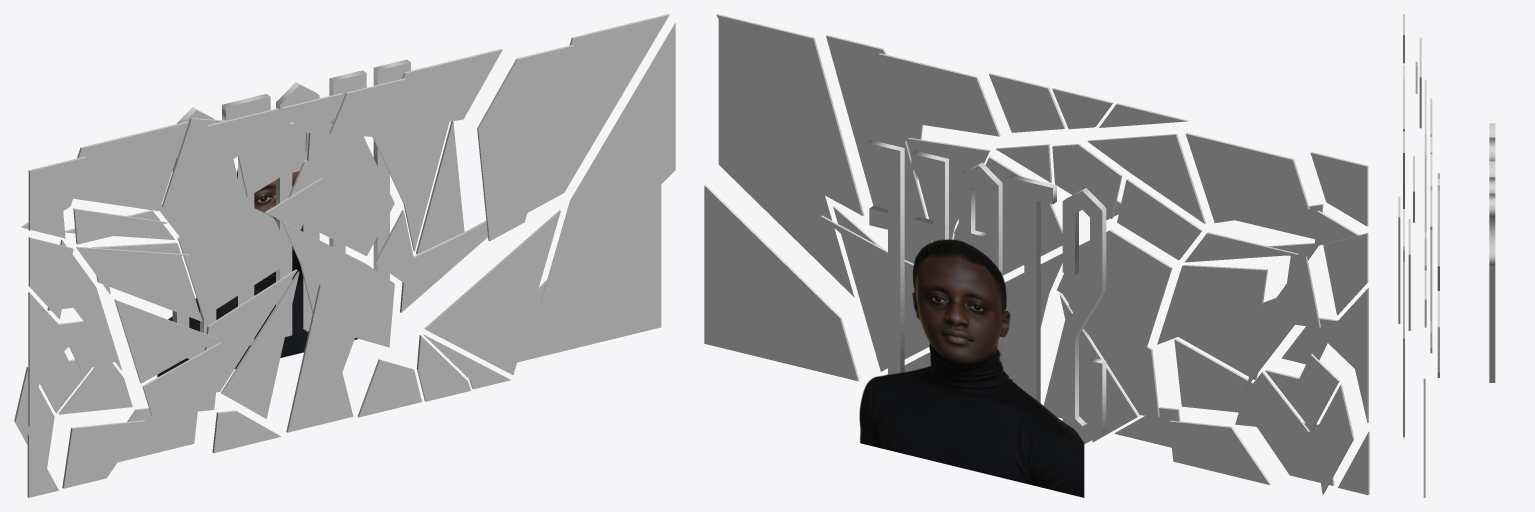
File: hero2.glb
The picture shows the model from 3 angles, left to right: view 1: azimuth 30°, elevation 25°; view 2: azimuth 150°, elevation 25°; view 3: azimuth 270°, elevation 25°; orthographic projection. The views are drawn at different scales.
Visible parts, largest first — view 1: Plane.004, Plane.041, Plane.017, Plane.005, Plane.013, Plane.049, Plane.039, Plane.010, Text, Plane.003, Plane.018, Plane.043 (+33 smaller); view 2: Image, Text, Plane.004, Plane.041, Plane.005, Plane.017, Plane.003, Plane.049, Plane.018, Plane.048, Plane.022, Plane.013 (+30 smaller); view 3: Text, Plane.017, Plane.004, Plane.005, Plane.039, Plane.024, Plane.036, Plane.003, Plane.010, Plane.013, Plane.007, Plane.022.
Part boxes in pixels (x1,y1,x2,y2): Plane.004: (517,185,661,362); Plane.041: (541,23,675,301); Plane.017: (477,45,573,241); Plane.005: (527,14,669,212); Plane.013: (424,210,560,374); Plane.049: (177,201,292,317); Plane.039: (288,135,394,256); Plane.010: (282,221,394,371); Text: (172,59,410,359); Plane.003: (73,121,188,211); Plane.018: (386,49,502,131); Plane.043: (286,285,353,432); Image: (859,239,1084,497); Text: (867,140,1106,444); Plane.004: (704,184,859,381); Plane.041: (718,19,854,297); Plane.005: (716,14,863,215); Plane.017: (826,35,922,208); Plane.003: (1185,133,1309,222); Plane.049: (1057,230,1172,347); Plane.018: (878,53,1000,136); Plane.048: (1157,265,1267,344); Plane.022: (1087,134,1205,223); Plane.013: (833,205,929,371); Text: (1489,123,1495,382); Plane.017: (1398,196,1400,323); Plane.004: (1423,378,1425,497); Plane.005: (1408,219,1410,330); Plane.039: (1437,185,1439,290); Plane.024: (1424,133,1426,232); Plane.036: (1430,230,1432,321); Plane.003: (1419,37,1421,128); Plane.010: (1437,291,1439,377); Plane.013: (1403,338,1404,436); Plane.007: (1424,270,1426,327); Plane.022: (1424,80,1426,133).
Bounding box in the file's own units: 18.05 × 8.76 × 3.89.
1 material, 1 textured.
